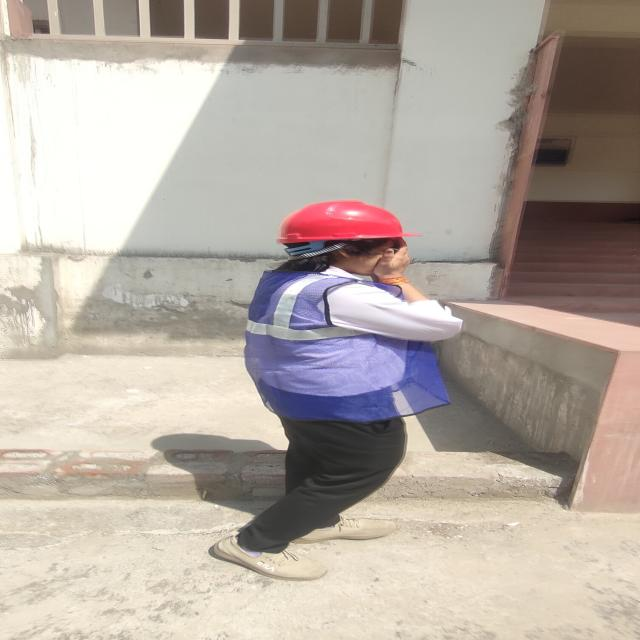safe: (240, 201, 462, 579)
